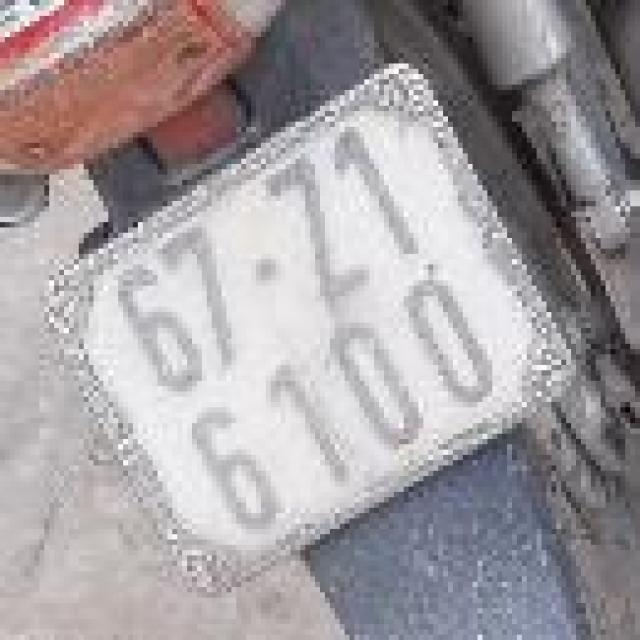0: (309, 294, 465, 494), (391, 264, 541, 444)
1: (316, 112, 448, 287), (245, 353, 367, 507)
6: (163, 393, 313, 565), (90, 243, 227, 407)
7: (144, 192, 275, 400)
Z: (247, 142, 388, 327)
